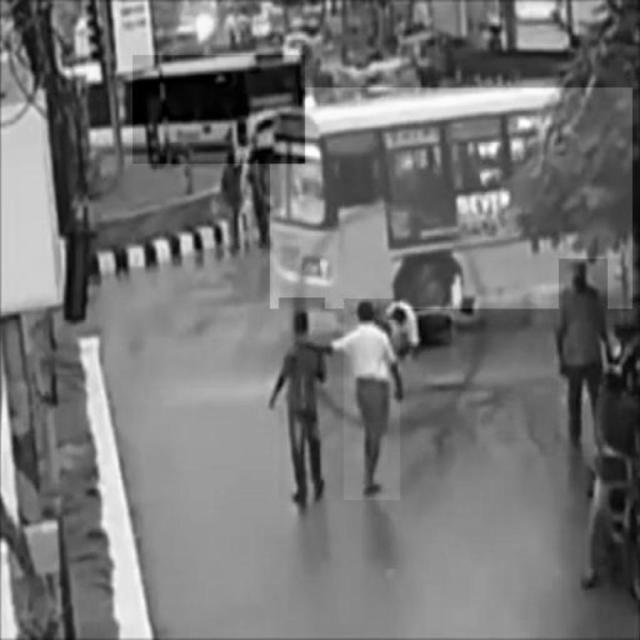person: (344, 299, 400, 500), (279, 298, 325, 508), (559, 259, 607, 456)
vehicle: (271, 88, 633, 309), (133, 56, 305, 164)
